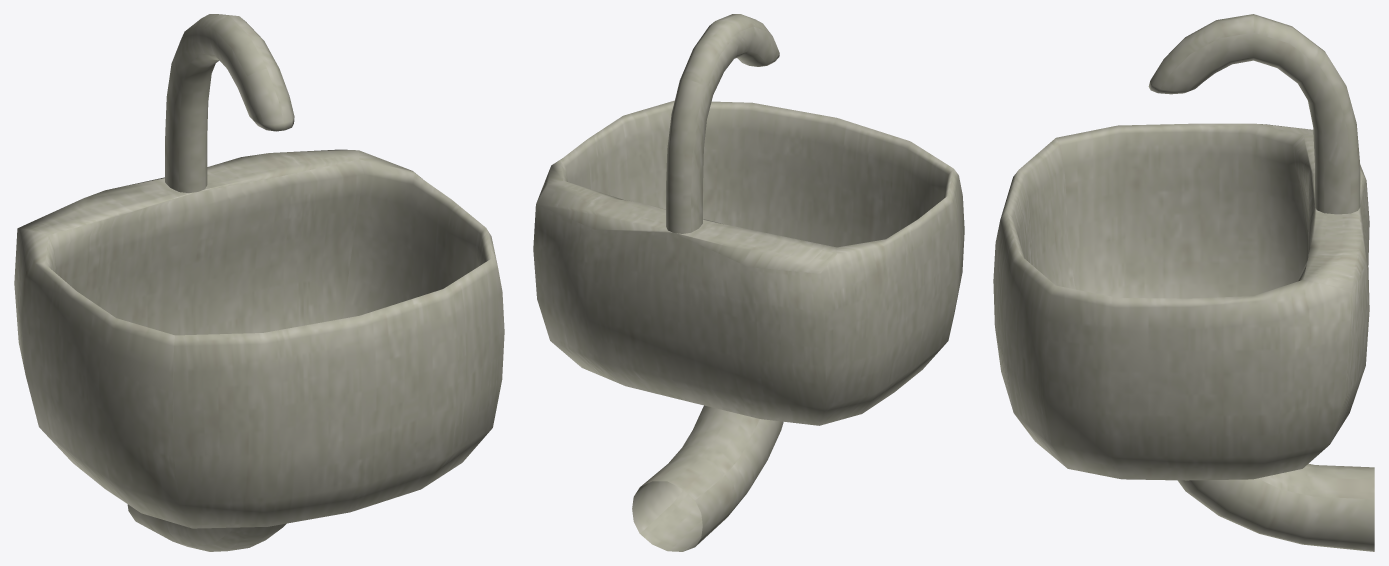
The model's file is sink.FBX.
The picture shows the model from 3 angles, left to right: view 1: azimuth 30°, elevation 25°; view 2: azimuth 150°, elevation 25°; view 3: azimuth 270°, elevation 25°; orthographic projection. The views are drawn at different scales.
Visible parts, largest first — view 1: Box002; view 2: Box002; view 3: Box002.
Boxes of the visible parts, <box> form: Box002: <box>14,14,504,551</box>; Box002: <box>533,14,964,551</box>; Box002: <box>993,14,1374,551</box>.
Bounding box in the file's own units: 0.5878 × 0.7957 × 0.5176.
Materials: 1 (1 with a texture image).
